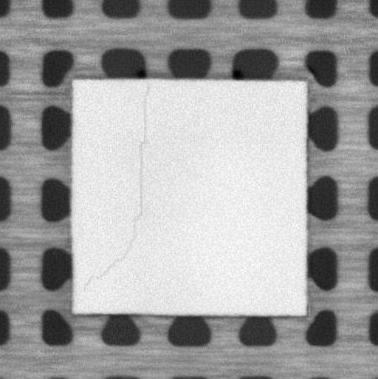DIE_CRACK: (83, 84, 152, 288)
